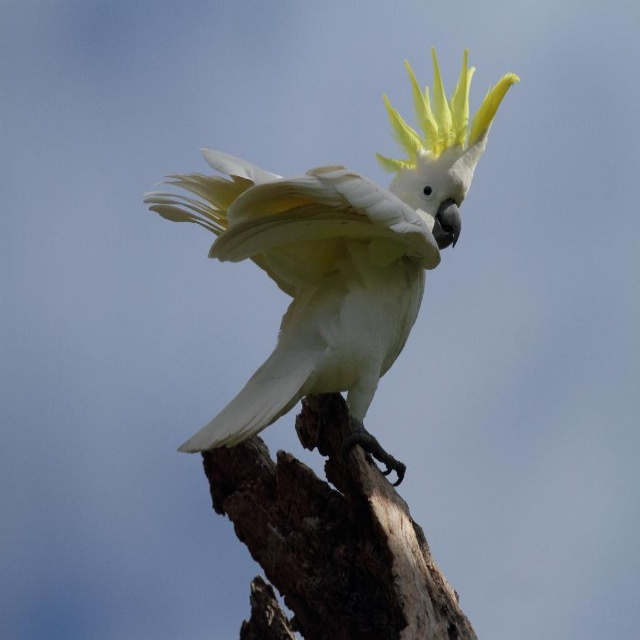Parrot: (143, 45, 521, 487)
